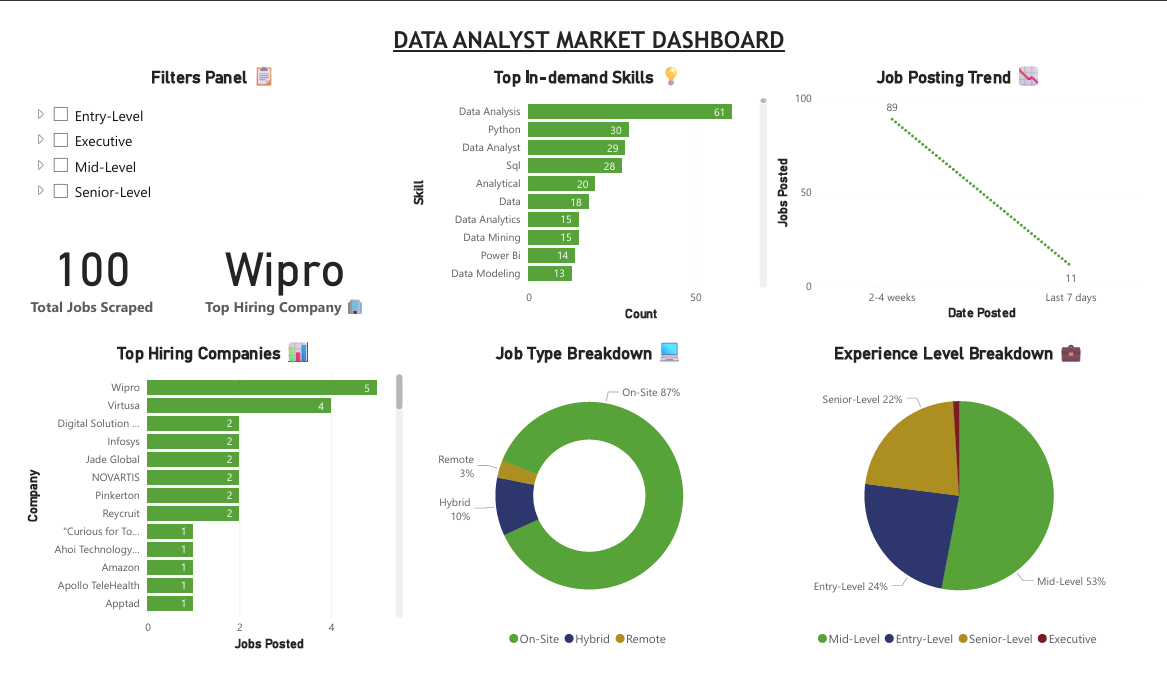

What the dashboard file says about the page in this screenshot:
{"tool":"powerbi","page":{"name":"Page 1","canvas":[1280,720],"ordinal":0},"visuals":[{"type":"donutChart","title":"Job Type Breakdown 💻","fields":{"Y":["CountNonNull(DA_HYD_JOBS.Job Type)"],"Category":["DA_HYD_JOBS.Job Type"]},"box":[438.9,360,414.4,360],"z":0},{"type":"slicer","title":"Filters Panel 📋","fields":{"Values":["DA_HYD_JOBS.Experience Categeory","DA_HYD_JOBS.Job Type","DA_HYD_JOBS.Date Posted Category"]},"box":[0,45.6,438.9,180],"z":1000},{"type":"textbox","box":[411.4,0,468.8,45.7],"z":2000},{"type":"card","fields":{"Values":["CountNonNull(DA_HYD_JOBS.Title)"]},"box":[0,225.6,161.1,118.9],"z":3000},{"type":"card","fields":{"Values":["DA_HYD_JOBS.Top Hiring Company"]},"box":[161.1,225.6,277.8,118.9],"z":4000},{"type":"clusteredBarChart","title":"Top Hiring Companies 📊","fields":{"Category":["DA_HYD_JOBS.Company"],"Y":["CountNonNull(DA_HYD_JOBS.Title)"]},"box":[0,360,438.9,360],"z":5000},{"type":"pieChart","title":"Experience Level Breakdown 💼","fields":{"Category":["DA_HYD_JOBS.Experience Categeory"],"Y":["CountNonNull(DA_HYD_JOBS.Experience Categeory)"]},"box":[853.3,360,426.7,360],"z":6000},{"type":"clusteredBarChart","title":"Top In-demand Skills 💡","fields":{"Category":["DA_HYD_SKILLS.Skill"],"Y":["Sum(DA_HYD_SKILLS.Count)"]},"box":[438.9,45.6,414.4,298.9],"z":7000},{"type":"lineChart","title":"Job Posting Trend 📉","fields":{"Category":["DA_HYD_JOBS.Date Posted Category"],"Y":["CountNonNull(DA_HYD_JOBS.Date Posted)"]},"box":[853.3,45.6,426.7,298.9],"z":8000}]}

Visuals, with their boxes in screenshot pixels (x1, y1, x2, y2), scaled from the page's 1280x720 canvas onto the 1167x673 screenshot:
"Job Type Breakdown 💻" donutChart: bbox(400, 336, 778, 672)
"Filters Panel 📋" slicer: bbox(0, 43, 400, 211)
textbox: bbox(375, 0, 802, 43)
card - CountNonNull(DA_HYD_JOBS.Title): bbox(0, 211, 147, 322)
card - DA_HYD_JOBS.Top Hiring Company: bbox(147, 211, 400, 322)
"Top Hiring Companies 📊" clusteredBarChart: bbox(0, 336, 400, 672)
"Experience Level Breakdown 💼" pieChart: bbox(778, 336, 1166, 672)
"Top In-demand Skills 💡" clusteredBarChart: bbox(400, 43, 778, 322)
"Job Posting Trend 📉" lineChart: bbox(778, 43, 1166, 322)
